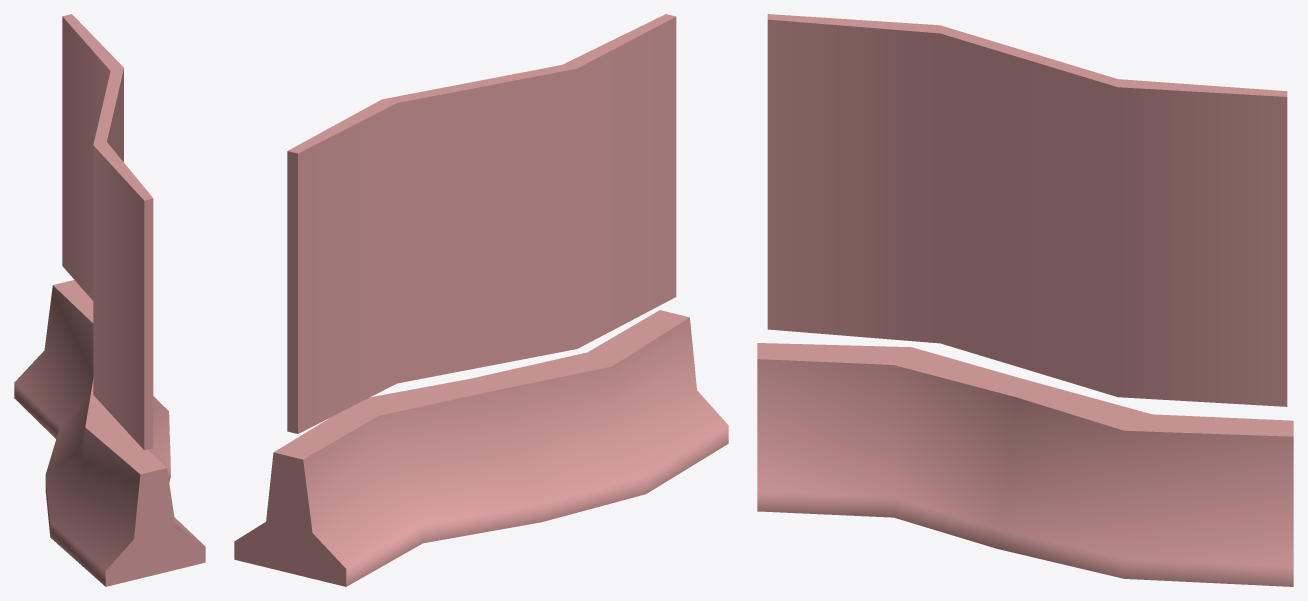
File: Fence_A_D_COL.fbx
3 views of the same model, side by side, from view 1: azimuth 30°, elevation 25°; view 2: azimuth 150°, elevation 25°; view 3: azimuth 270°, elevation 25° (orthographic). The views are drawn at different scales.
Parts seen in each view (by area): view 1: Fence_A_D_COL; view 2: Fence_A_D_COL; view 3: Fence_A_D_COL.
Boxes of the visible parts, x1=… form: Fence_A_D_COL: x1=14, y1=14, x2=205, y2=586; Fence_A_D_COL: x1=234, y1=14, x2=728, y2=586; Fence_A_D_COL: x1=757, y1=14, x2=1293, y2=586.
Bounding box in the file's own units: 180 × 286 × 300.
